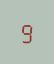nine: (19, 19, 32, 44)
